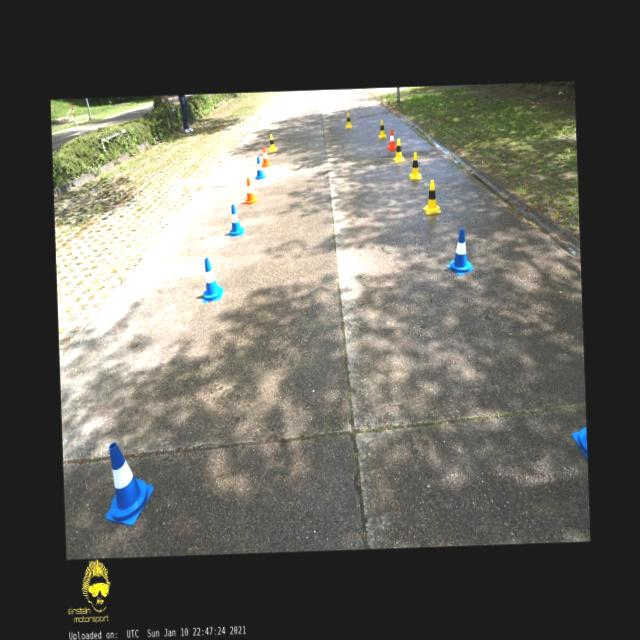blue_cone: (102, 441, 155, 527), (445, 227, 474, 275), (200, 257, 223, 302), (228, 203, 245, 236), (254, 154, 265, 180)
orange_cone: (244, 177, 257, 204), (386, 128, 396, 150), (260, 146, 270, 167)
yellow_cone: (422, 178, 440, 214), (408, 152, 422, 180), (391, 138, 405, 162), (377, 119, 387, 138), (268, 134, 277, 152), (344, 112, 352, 130)
